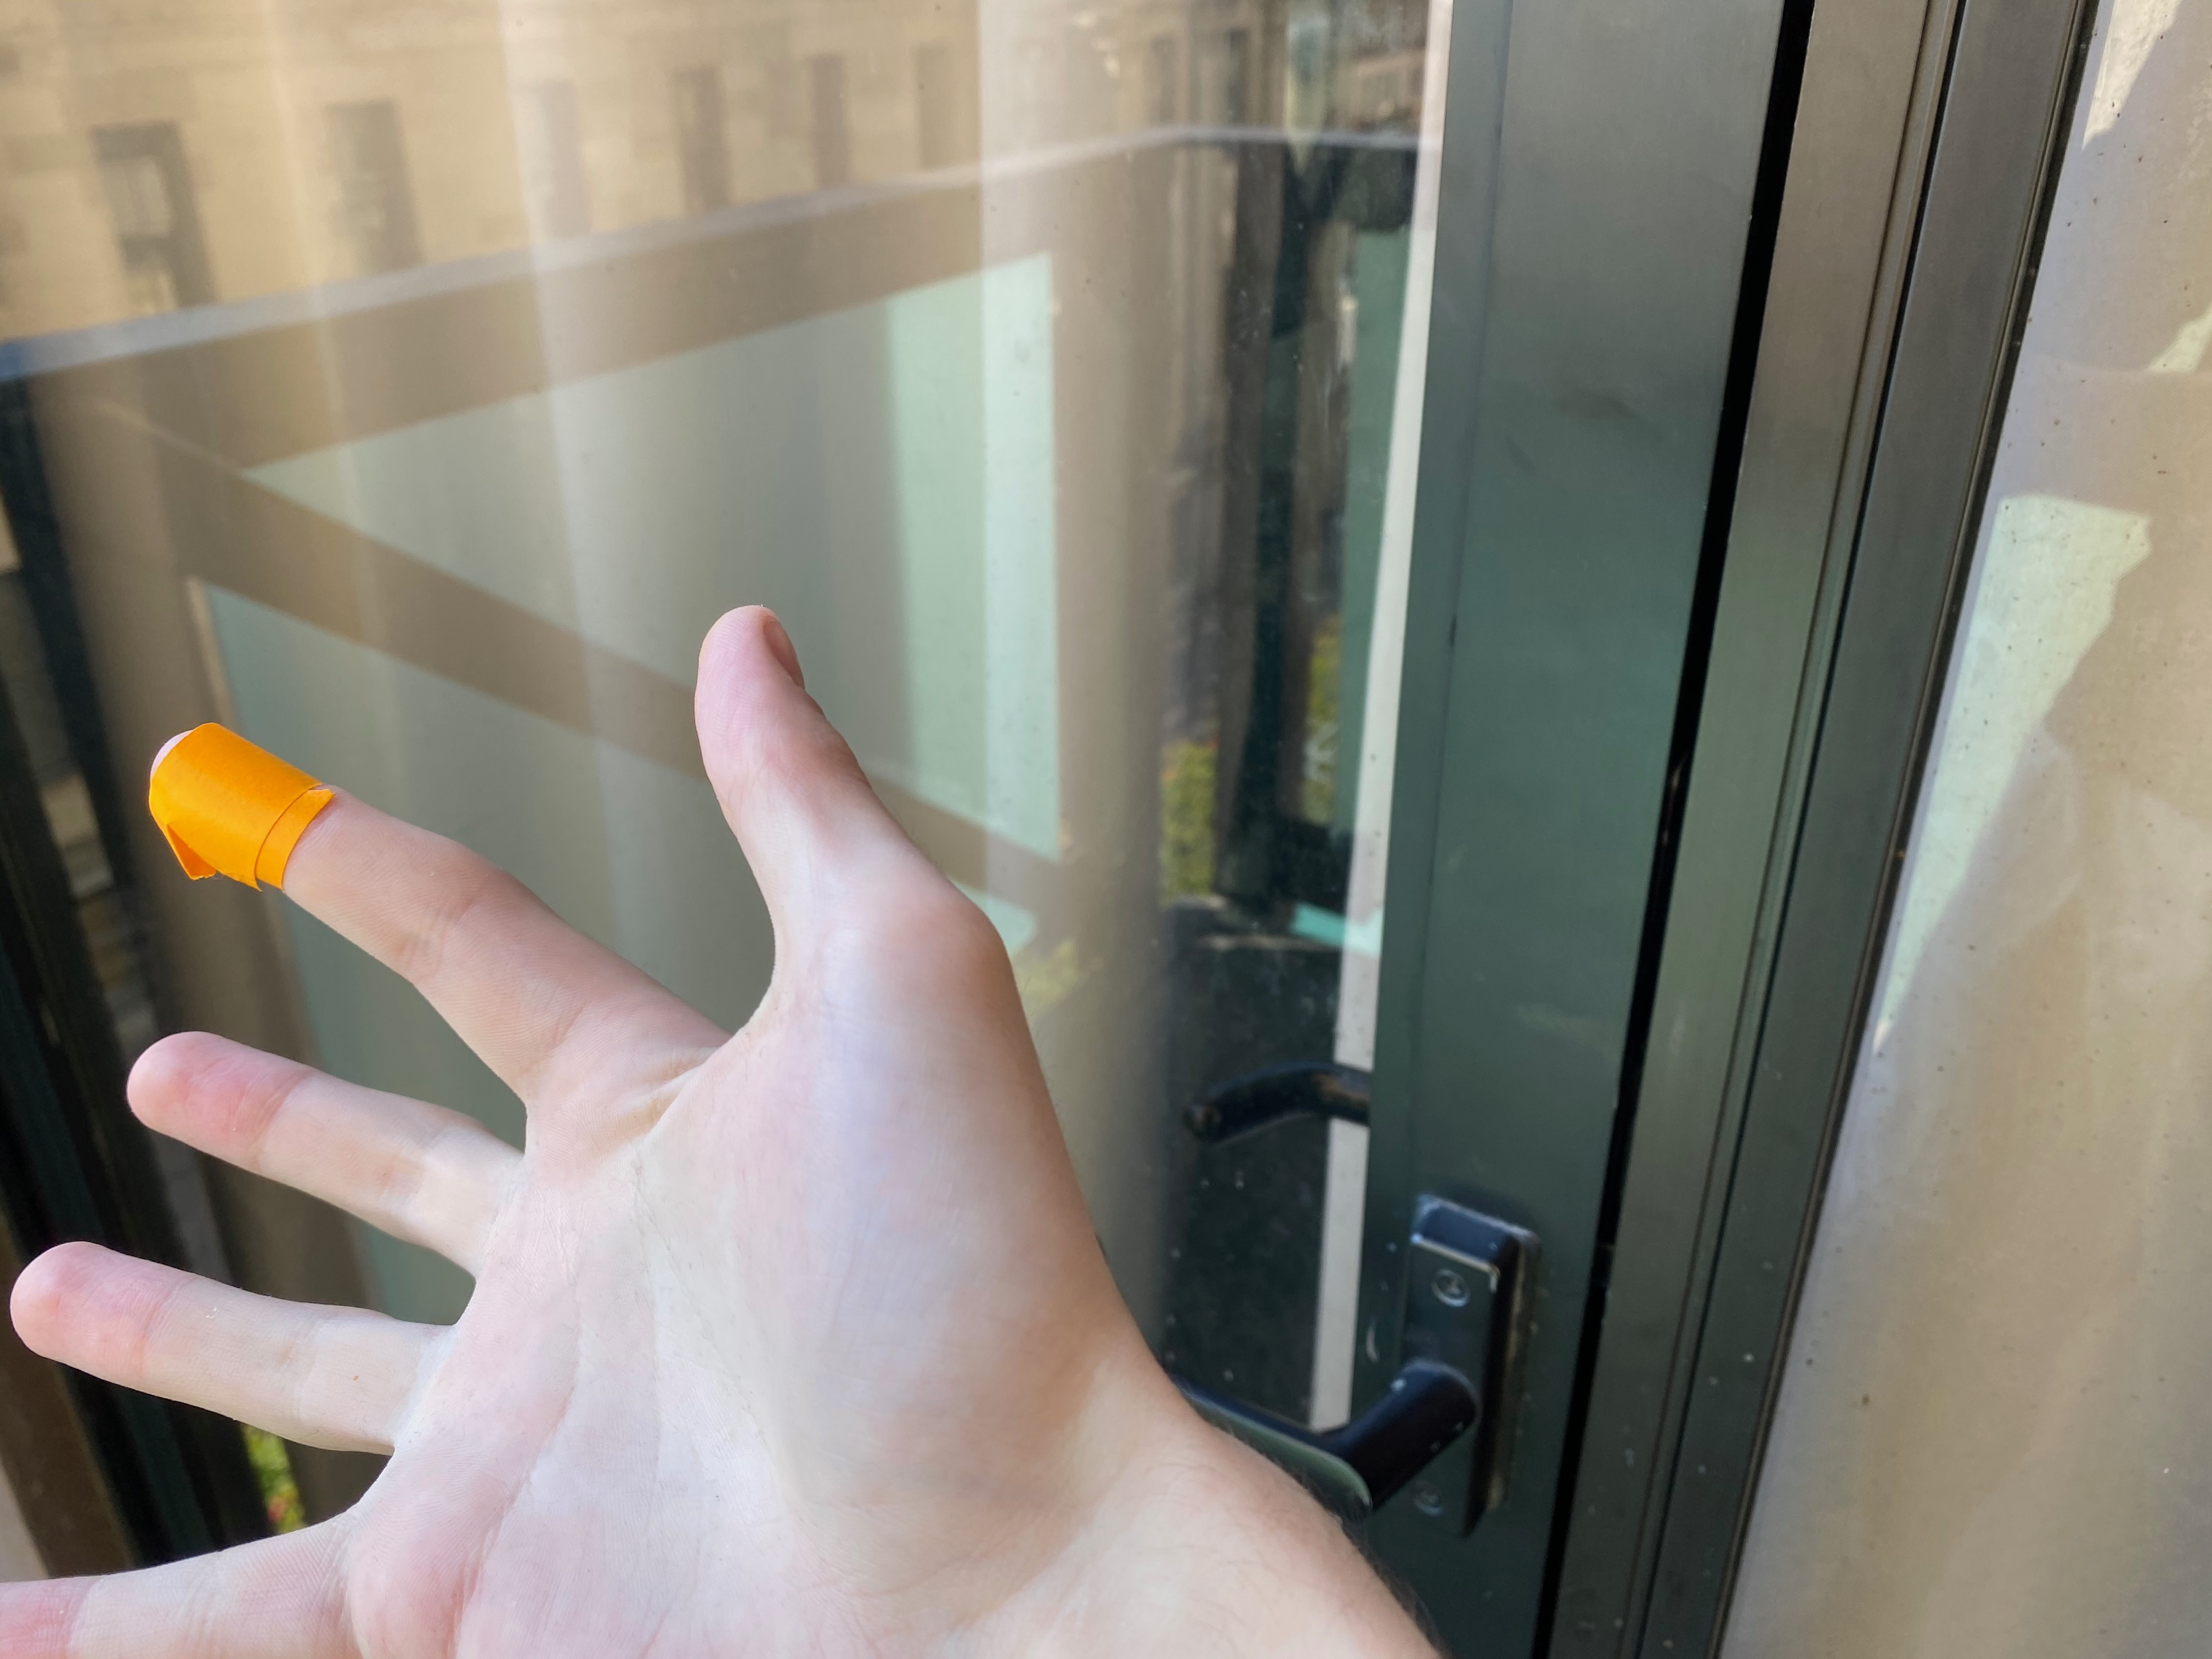fingertip: (118, 704, 404, 920)
